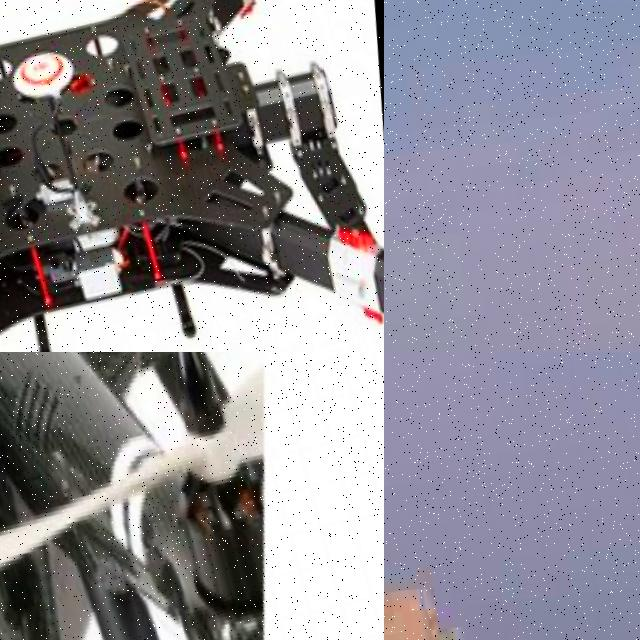drone: (0, 0, 384, 352), (0, 352, 384, 640)
